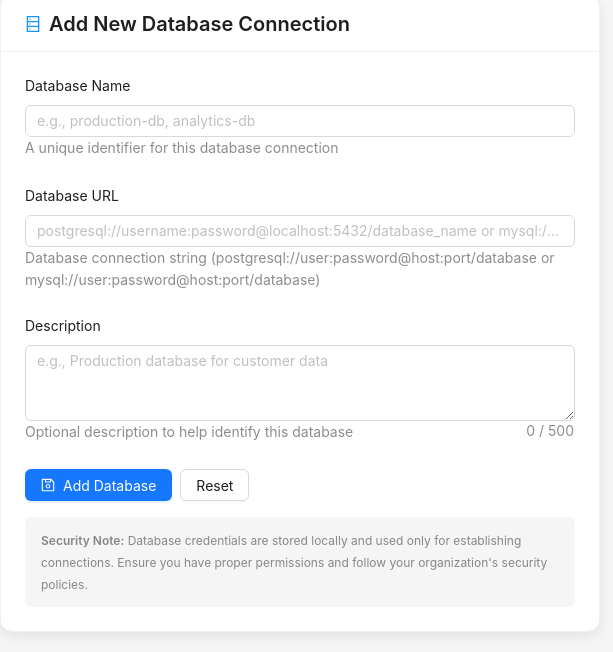
Test: DatabaseForm Component › validates required fields
Click the button "Add Database". click: (99, 485)
box: 25,469 -> 172,501
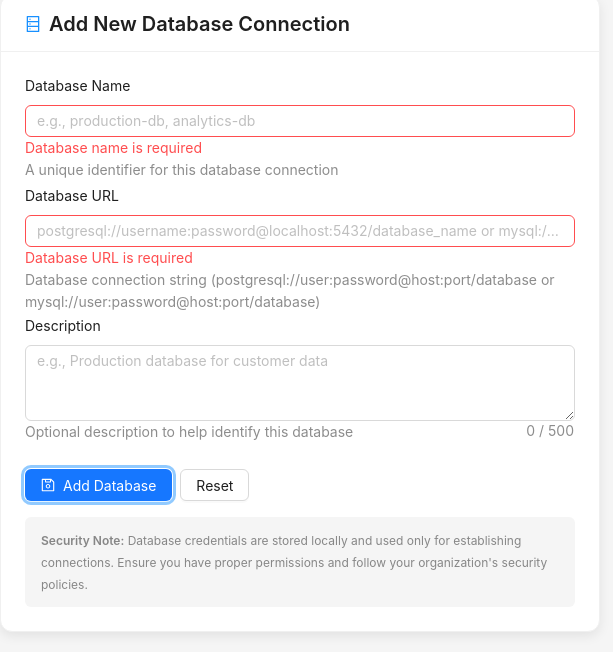
Expected: the text "Database name is required" is shown, 25,139 -> 202,156
Expected: the text "Database URL is required" is shown, 25,249 -> 193,266
